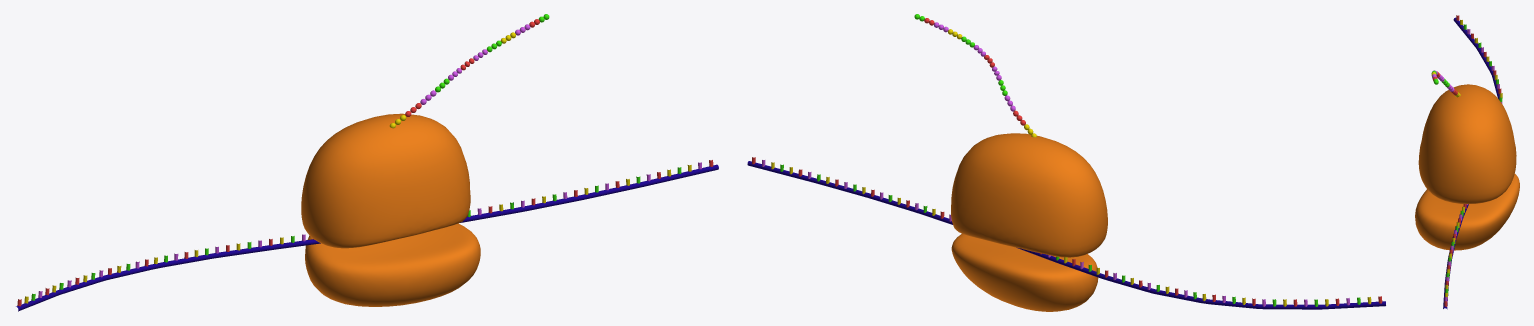
File: Ribossomo.glb
The picture shows the model from 3 angles, left to right: view 1: azimuth 30°, elevation 25°; view 2: azimuth 150°, elevation 25°; view 3: azimuth 270°, elevation 25°; orthographic projection. The views are drawn at different scales.
Visible parts, largest first — view 1: Cube, Cube.001, Cylinder, Sphere; view 2: Cube, Cube.001, Cylinder, Sphere; view 3: Cube, Cube.001, Cylinder, Sphere.
Part boxes in pixels (left/top/right/bottom): Cube: left=301, top=113, right=470, bottom=248; Cube.001: left=305, top=223, right=480, bottom=306; Cylinder: left=16, top=160, right=718, bottom=311; Sphere: left=389, top=14, right=549, bottom=128; Cube: left=951, top=133, right=1107, bottom=257; Cube.001: left=951, top=234, right=1098, bottom=311; Cylinder: left=747, top=157, right=1385, bottom=309; Sphere: left=914, top=14, right=1036, bottom=137; Cube: left=1418, top=84, right=1516, bottom=204; Cube.001: left=1415, top=173, right=1519, bottom=250; Cylinder: left=1443, top=15, right=1502, bottom=309; Sphere: left=1431, top=70, right=1460, bottom=97.
Size of the model in its own units: 317 by 114 by 51.5.
